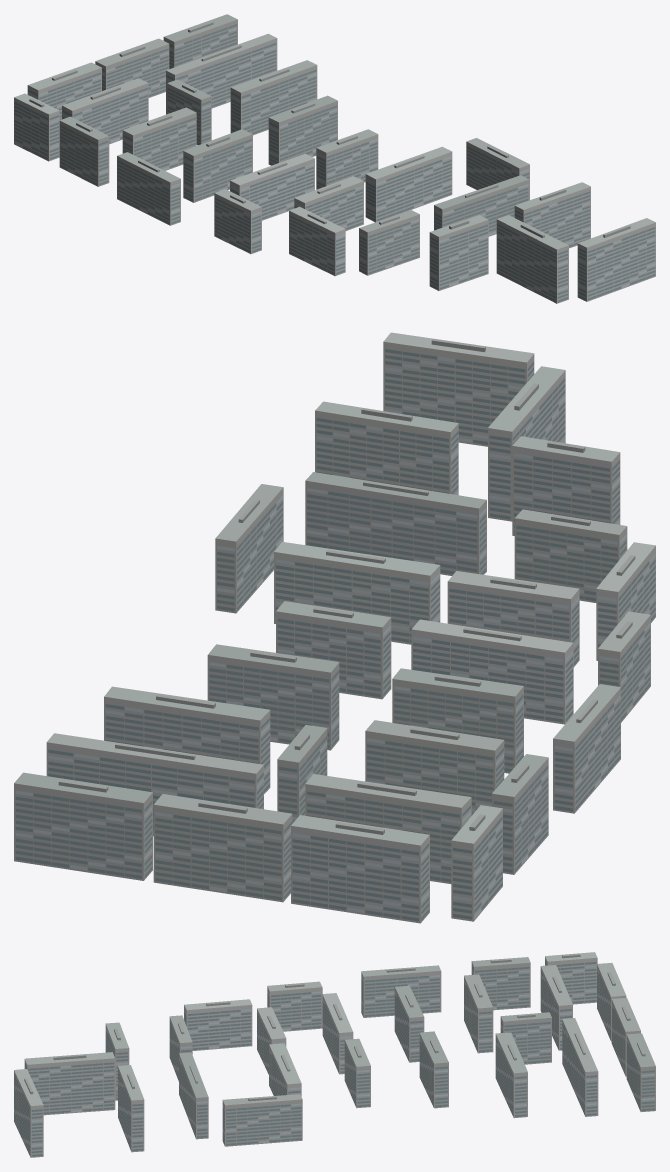
Rendered from apt-a13822702.glb.
3 renders of one model, top to bottom at view 1: azimuth 30°, elevation 25°; view 2: azimuth 150°, elevation 25°; view 3: azimuth 270°, elevation 25°, orthographic. The views are drawn at different scales.
Parts seen in each view (by area): view 1: apt-a13822702; view 2: apt-a13822702; view 3: apt-a13822702.
Boxes of the visible parts, x1,y1,x2,y2 form: apt-a13822702: (14, 14, 655, 303); apt-a13822702: (14, 332, 655, 923); apt-a13822702: (14, 952, 655, 1157).
Size of the model in its own units: 305 by 47.81 by 515.
